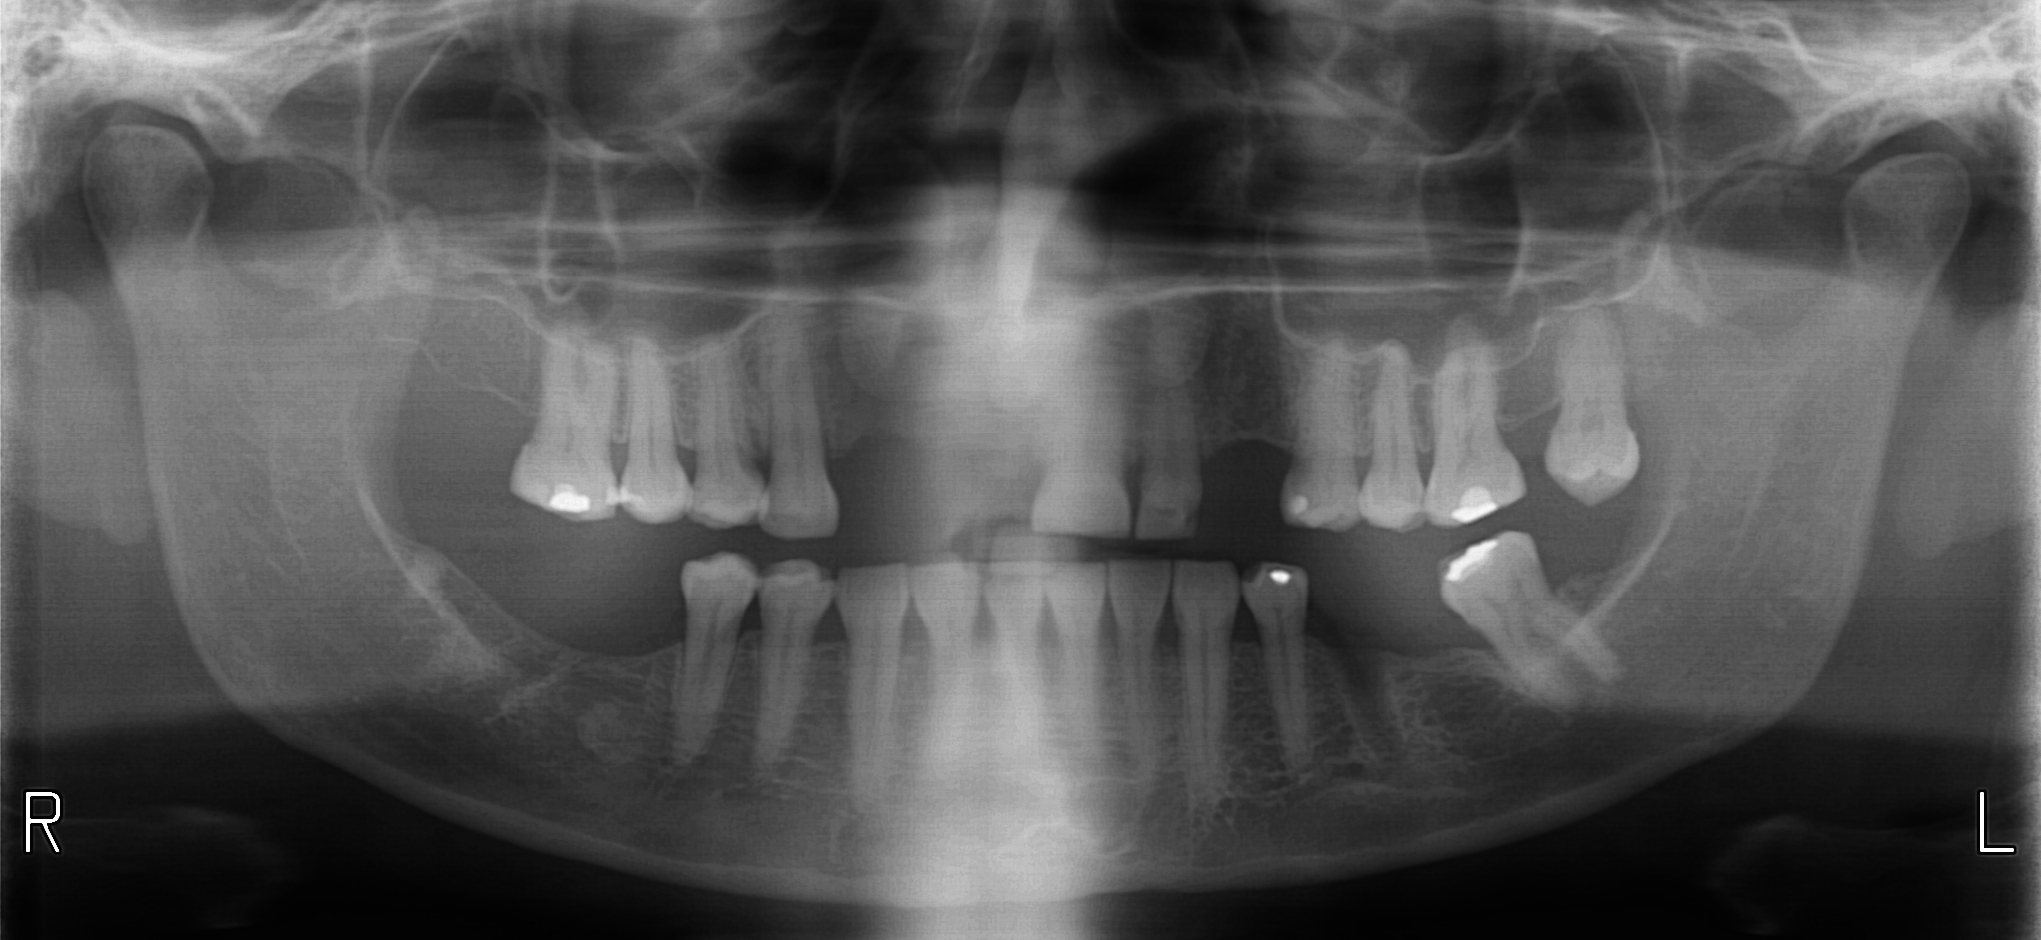cavity: (1191, 499, 1201, 523), (1246, 568, 1259, 579)
